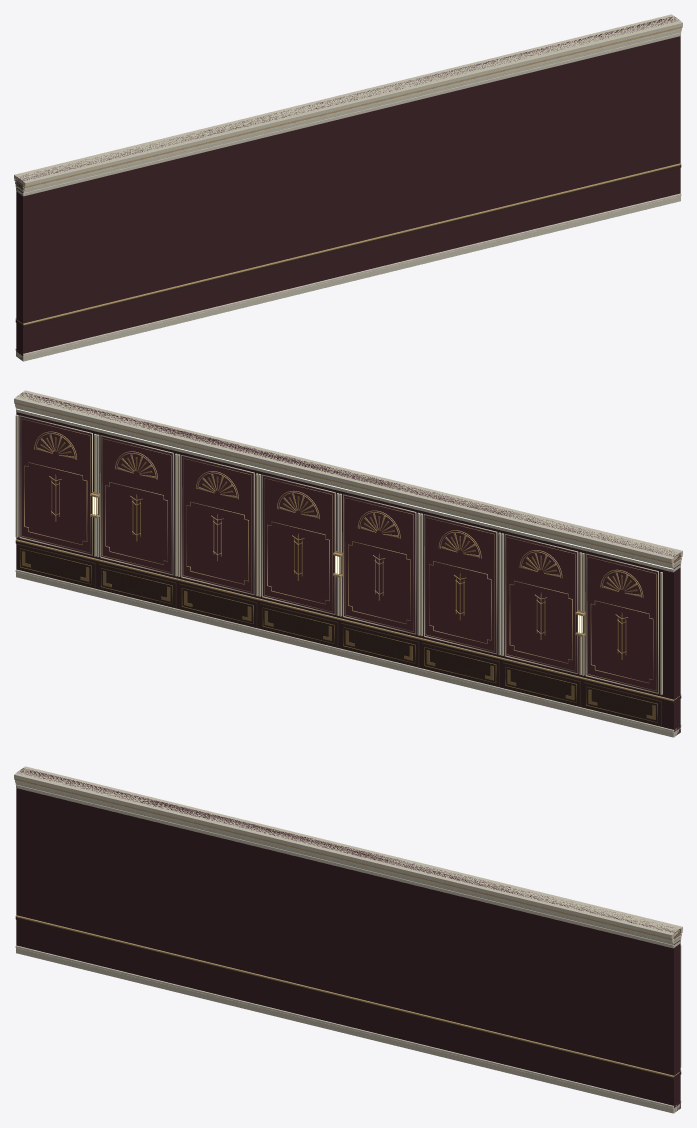
The model's file is casino-deco-casino-wall-en.glb.
3 renders of one model, top to bottom at view 1: azimuth 30°, elevation 25°; view 2: azimuth 150°, elevation 25°; view 3: azimuth 330°, elevation 25°, orthographic.
Parts seen in each view (by area): view 1: casino-wall-en / Entry deep oxblood reveals, casino-wall-en / Entry carved limestone, casino-wall-en / Entry ivory marble, casino-wall-en / Entry champagne brass, casino-wall-en / Entry dark walnut; view 2: casino-wall-en / Entry smoky oxblood lacquer, casino-wall-en / Entry carved limestone, casino-wall-en / Entry dark walnut, casino-wall-en / Entry deep oxblood reveals, casino-wall-en / Entry champagne brass, casino-wall-en / Entry aged bronze, casino-wall-en / Entry ivory marble, casino-wall-en / Entry warm opal; view 3: casino-wall-en / Entry deep oxblood reveals, casino-wall-en / Entry carved limestone, casino-wall-en / Entry ivory marble, casino-wall-en / Entry champagne brass, casino-wall-en / Entry dark walnut.
Boxes of the visible parts, <box> form: casino-wall-en / Entry deep oxblood reveals: <box>16,16,680,360</box>; casino-wall-en / Entry carved limestone: <box>14,14,682,361</box>; casino-wall-en / Entry ivory marble: <box>15,28,681,355</box>; casino-wall-en / Entry champagne brass: <box>14,26,682,325</box>; casino-wall-en / Entry dark walnut: <box>15,165,681,327</box>; casino-wall-en / Entry smoky oxblood lacquer: <box>20,416,657,692</box>; casino-wall-en / Entry carved limestone: <box>14,390,682,737</box>; casino-wall-en / Entry dark walnut: <box>15,541,681,726</box>; casino-wall-en / Entry deep oxblood reveals: <box>16,392,680,735</box>; casino-wall-en / Entry champagne brass: <box>14,402,682,701</box>; casino-wall-en / Entry aged bronze: <box>16,417,660,722</box>; casino-wall-en / Entry ivory marble: <box>15,404,681,731</box>; casino-wall-en / Entry warm opal: <box>15,408,672,633</box>; casino-wall-en / Entry deep oxblood reveals: <box>16,768,680,1111</box>; casino-wall-en / Entry carved limestone: <box>14,766,682,1113</box>; casino-wall-en / Entry ivory marble: <box>15,780,681,1107</box>; casino-wall-en / Entry champagne brass: <box>14,778,682,1077</box>; casino-wall-en / Entry dark walnut: <box>15,917,681,1079</box>.
Bounding box in the file's own units: 26 × 6.8 × 0.833.
8 materials, 2 textured.
